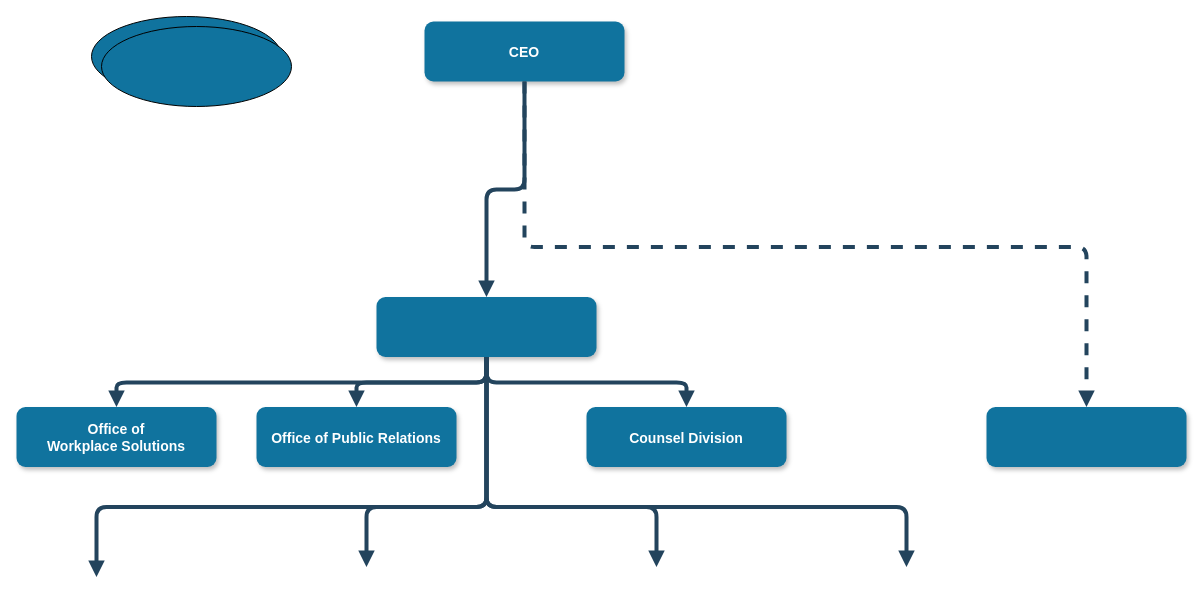
Some shapes in this 1203 by 589 pixel diagram are drawn without their labels. Here are the shapes that lost their labels. From the top down, the centre of each, then its label:
At point (487, 328): "Deputy Director".
At point (1087, 438): "Cooperation".
